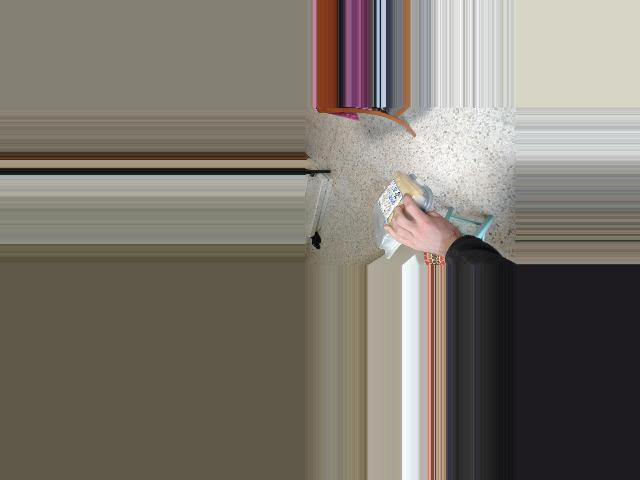cheese: (379, 162, 418, 254)
